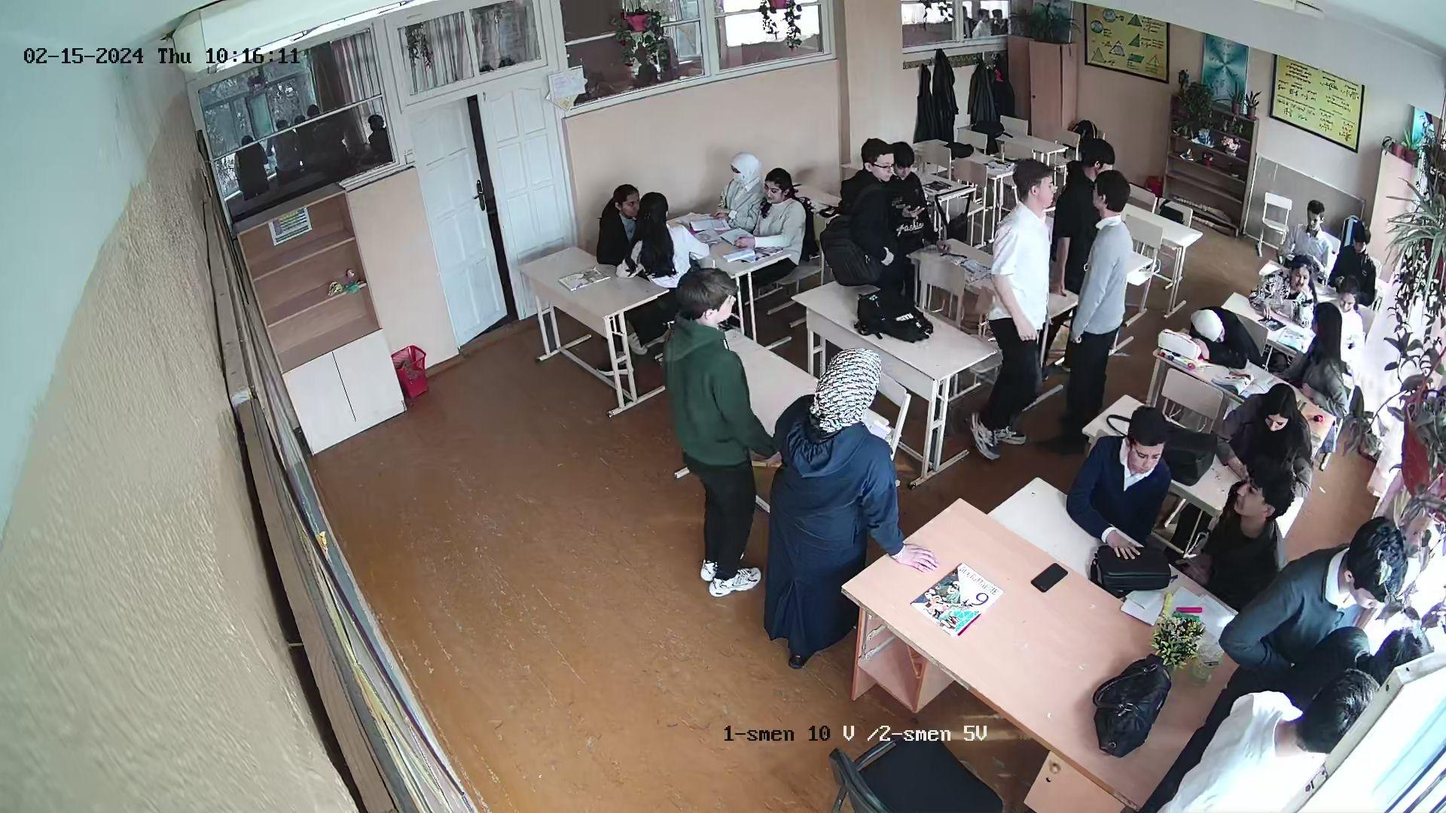Bend Over The Desk: (1182, 301, 1249, 373)
Look Around: (634, 190, 713, 277), (1303, 305, 1348, 409)
Stand Up: (779, 351, 893, 661), (669, 280, 755, 595), (970, 155, 1055, 462), (1073, 169, 1132, 400), (835, 139, 892, 293), (895, 141, 938, 274)
